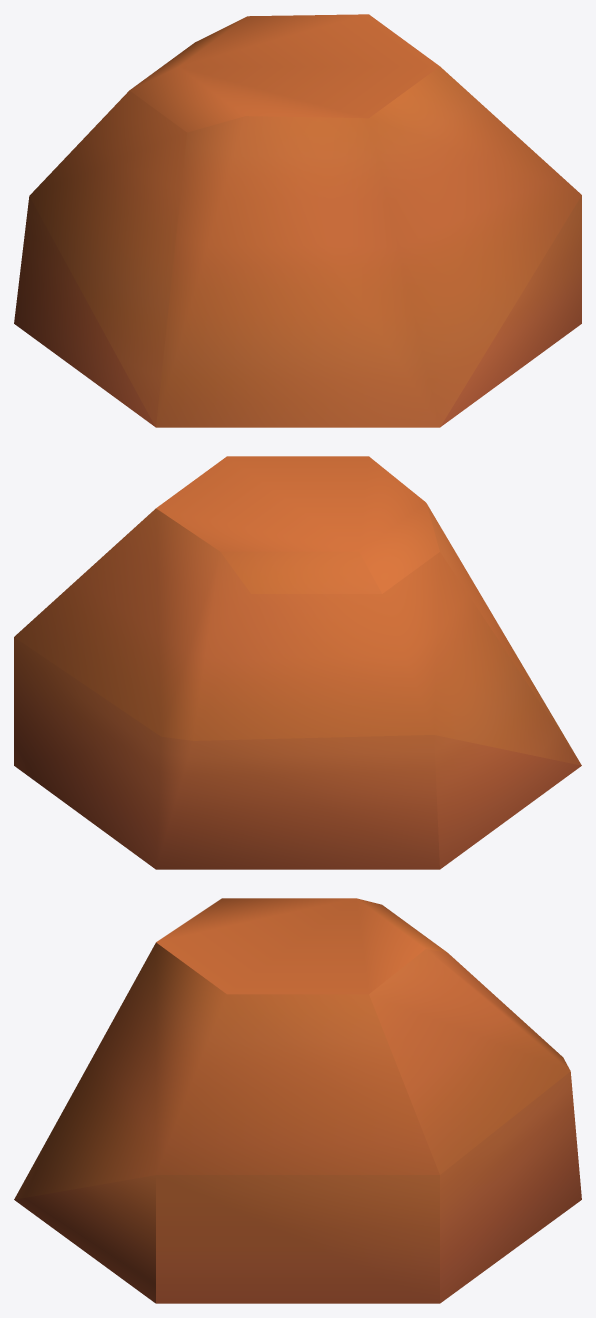
The model's file is rock_b.glb.
3 views of the same model, one above another, from view 1: azimuth 30°, elevation 25°; view 2: azimuth 150°, elevation 25°; view 3: azimuth 270°, elevation 25° (orthographic).
Parts seen in each view (by area): view 1: rock_B; view 2: rock_B; view 3: rock_B.
Boxes of the visible parts, bbox=[...] form: rock_B: bbox=[14, 14, 581, 427]; rock_B: bbox=[14, 456, 581, 869]; rock_B: bbox=[14, 898, 581, 1303].
Bounding box in the file's own units: 0.6953 × 0.4015 × 0.8028.
1 material, 1 textured.
